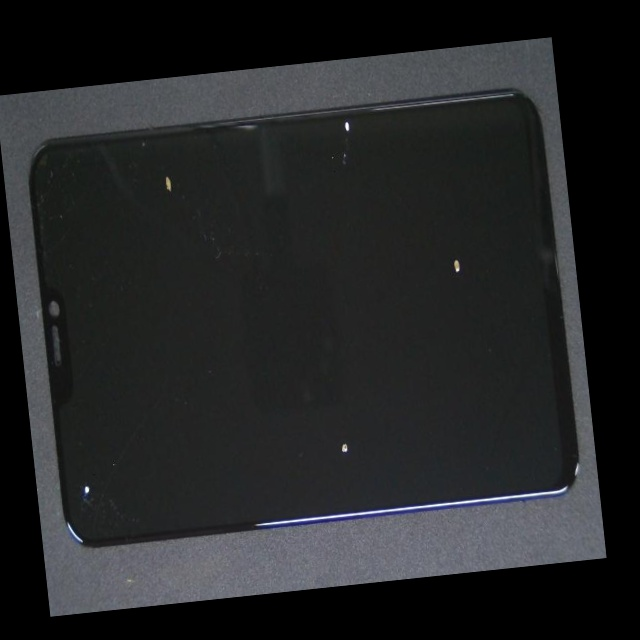stain: (147, 217, 492, 603), (206, 129, 588, 417), (185, 146, 541, 241), (35, 238, 112, 614), (98, 101, 257, 205)
